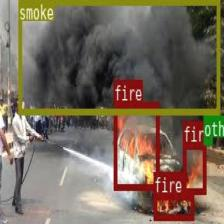fire: (113, 102, 158, 188), (182, 142, 205, 192), (153, 194, 193, 220)
smoke: (18, 0, 220, 113)
